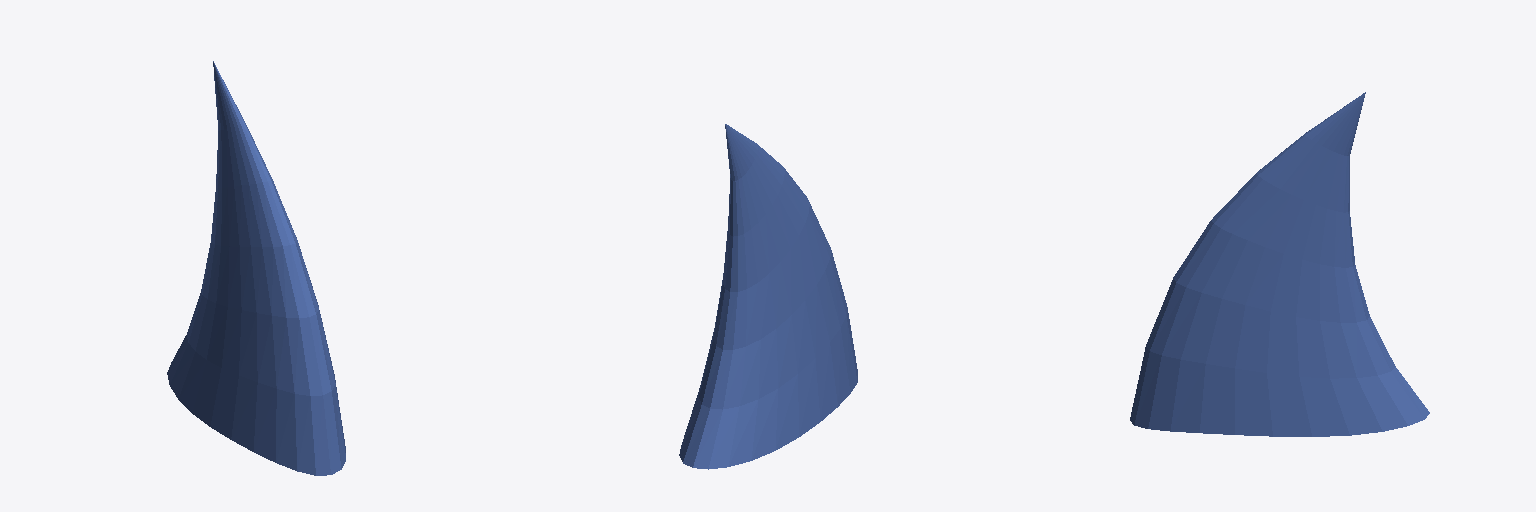
Rendered from shark_hire.obj.
3 views of the same model, side by side, from view 1: azimuth 30°, elevation 25°; view 2: azimuth 150°, elevation 25°; view 3: azimuth 270°, elevation 25° (orthographic).
Visible parts, largest first — view 1: pCone1; view 2: pCone1; view 3: pCone1.
Part boxes in pixels (x1,y1,x2,y2): pCone1: (167,61,345,475); pCone1: (679,124,857,469); pCone1: (1130,92,1429,436).
Bounding box in the file's own units: 0.1511 × 0.4824 × 0.3999.